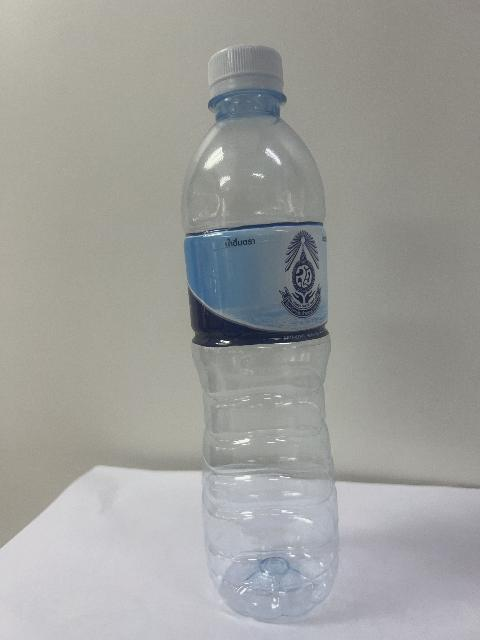bottle: (183, 46, 338, 620)
